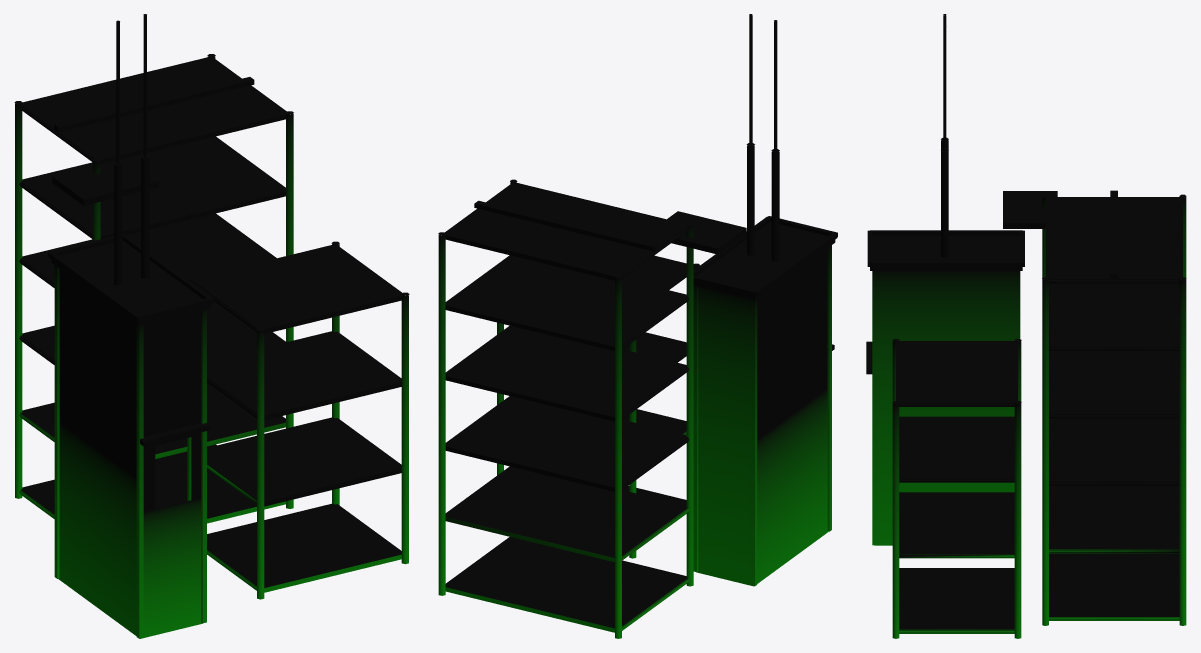
The model's file is gantry.glb.
3 renders of one model, left to right at view 1: azimuth 30°, elevation 25°; view 2: azimuth 150°, elevation 25°; view 3: azimuth 270°, elevation 25°, orthographic. The views are drawn at different scales.
Visible parts, largest first — view 1: lod0; view 2: lod0; view 3: lod0.
Boxes of the visible parts, left/top/right/bottom form: lod0: left=14, top=14, right=409, bottom=638; lod0: left=438, top=14, right=837, bottom=638; lod0: left=866, top=14, right=1186, bottom=638.
Size of what is drawn, in the model's own units: 19.1 by 37 by 21.
